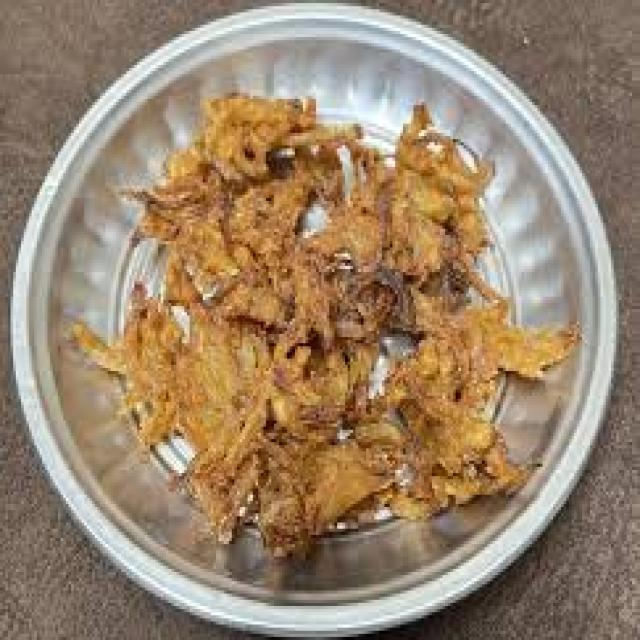BAJI: (187, 319, 424, 541), (114, 260, 269, 474), (298, 134, 482, 313), (394, 316, 552, 517), (173, 102, 330, 246)
